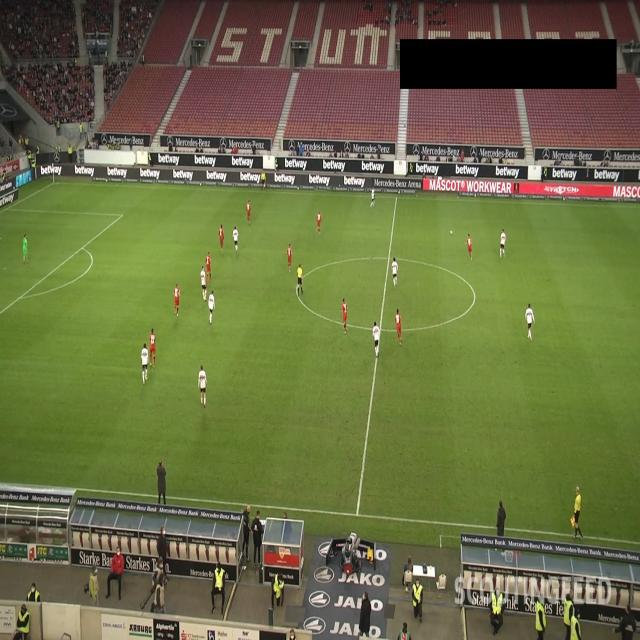ball: (449, 229, 454, 236)
